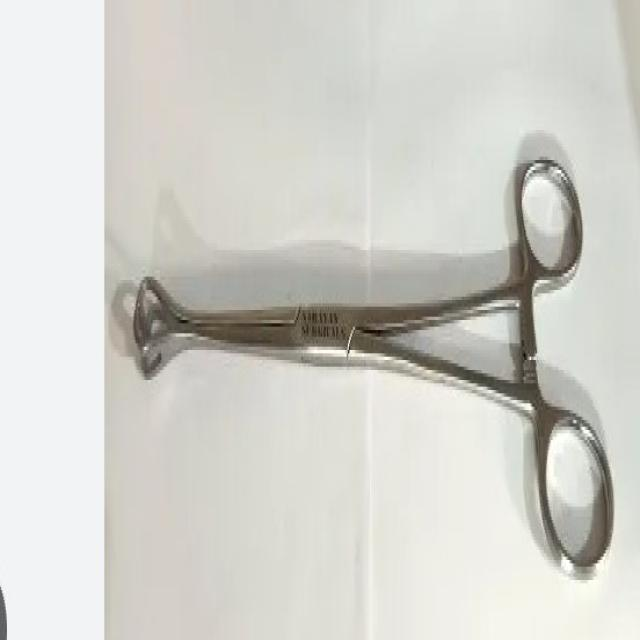Babcock Forceps: (132, 146, 616, 588)
